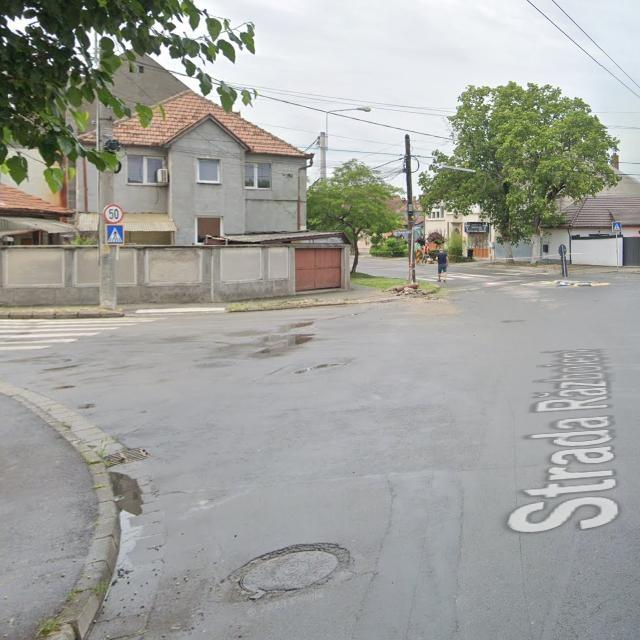forb_speed_over_50: (103, 203, 124, 224)
info_crosswalk: (106, 224, 125, 246)
